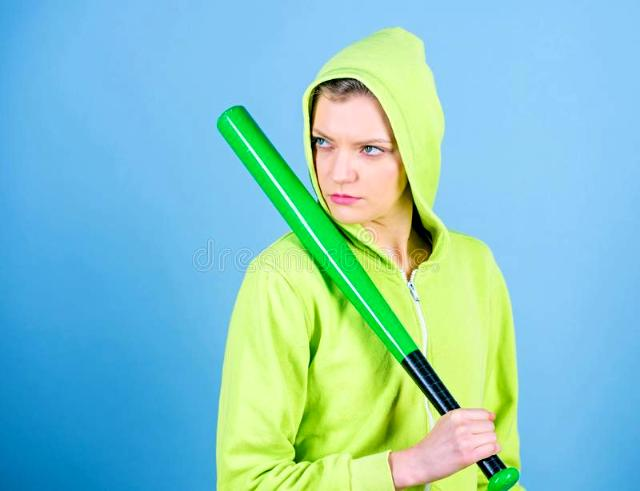baseball bat: (218, 102, 520, 490)
